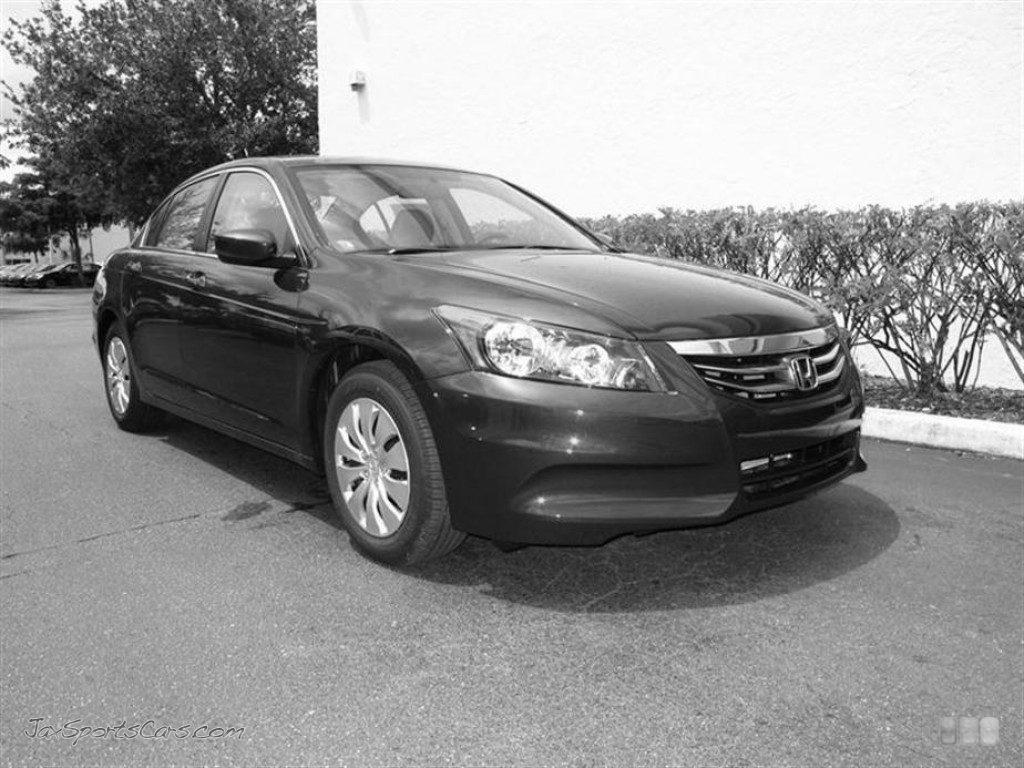car: (95, 155, 869, 571)
